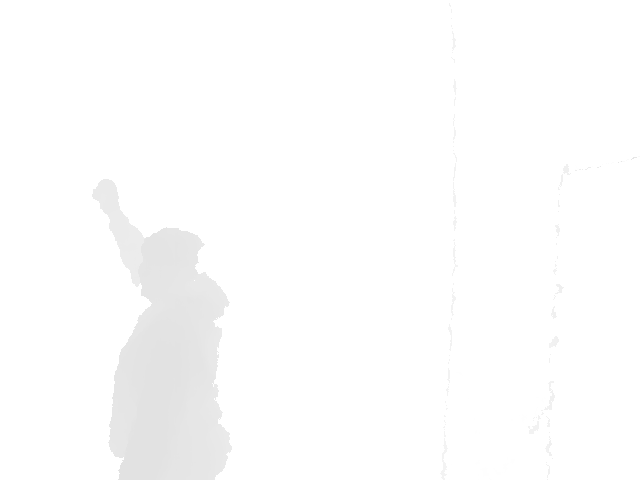hand: (92, 178, 123, 211)
head: (136, 226, 206, 308)
person: (92, 178, 233, 480)
